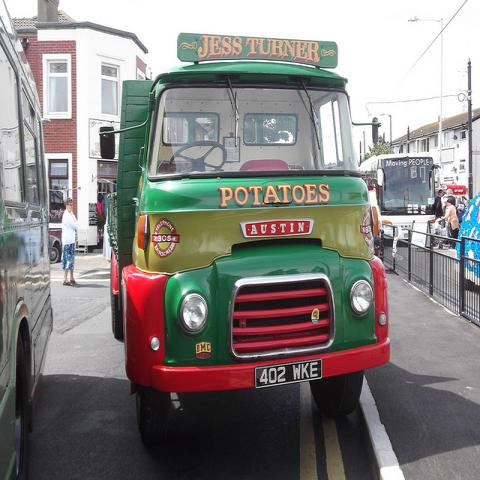bus: (360, 154, 435, 224)
truck: (108, 33, 388, 451), (0, 0, 54, 475)
